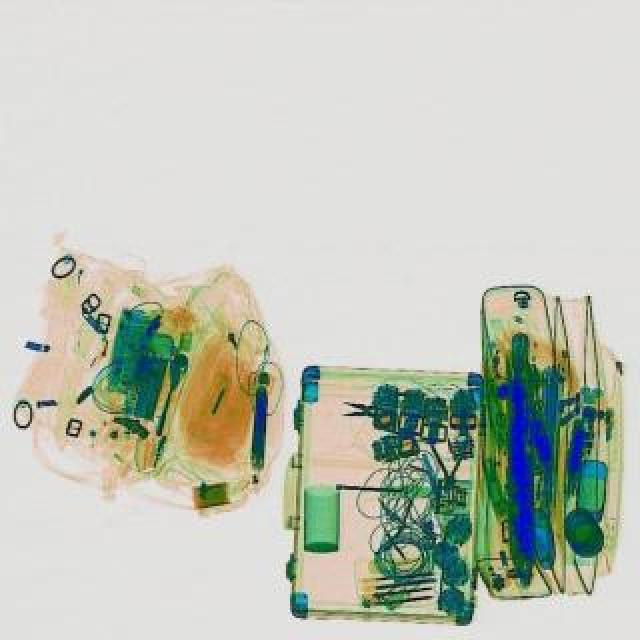wrench: (336, 388, 414, 436), (428, 432, 472, 494)
